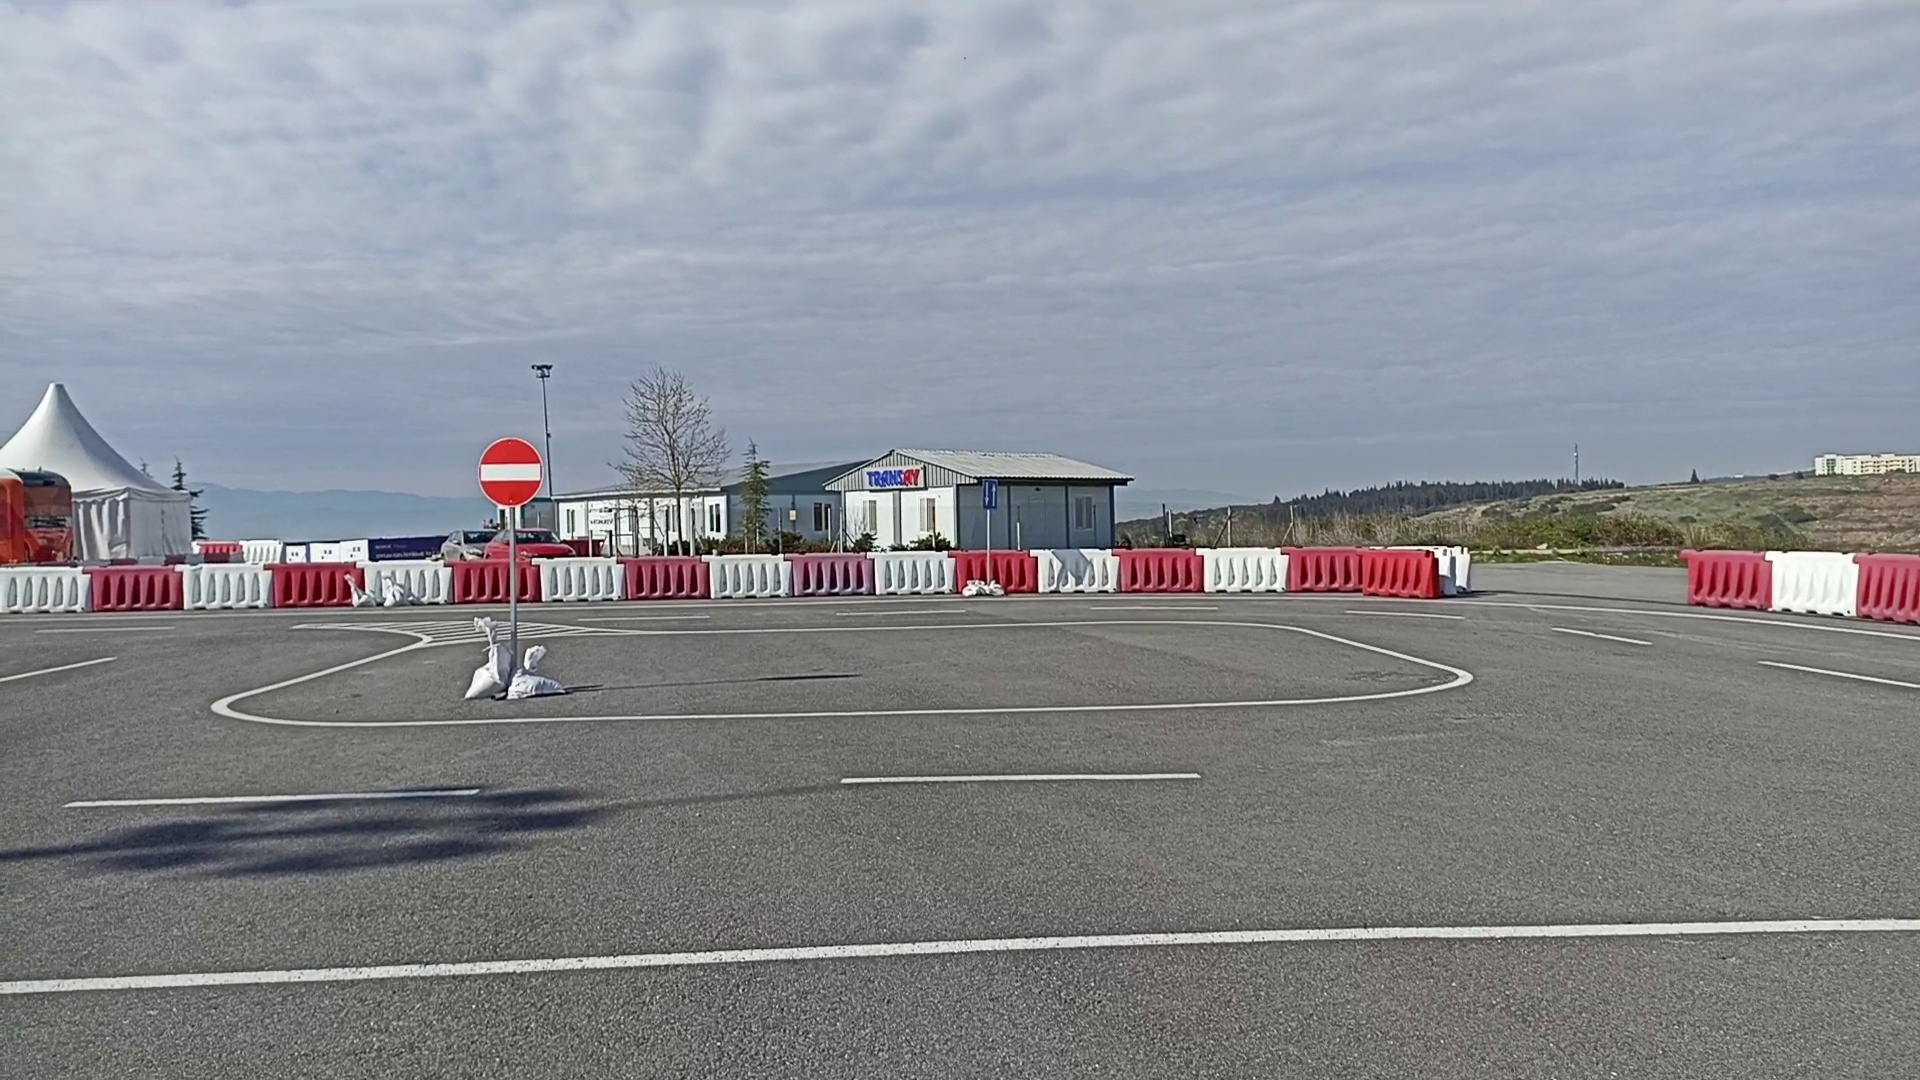noentryway: (477, 435, 549, 508)
